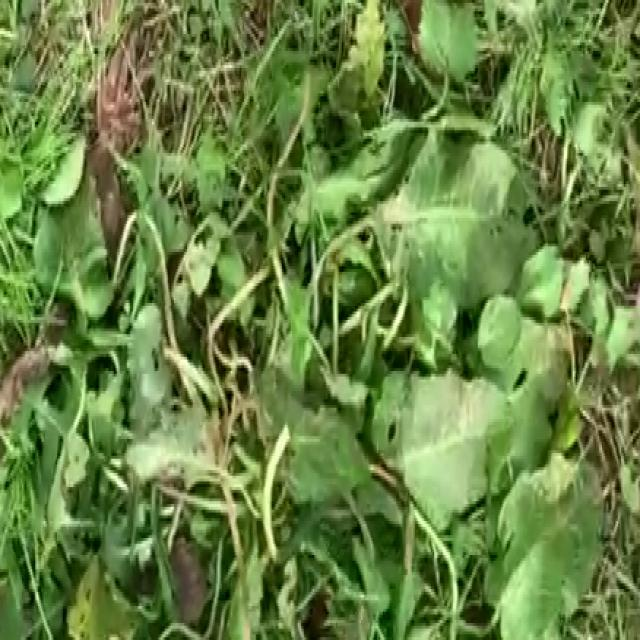organic waste: (43, 73, 615, 640)
